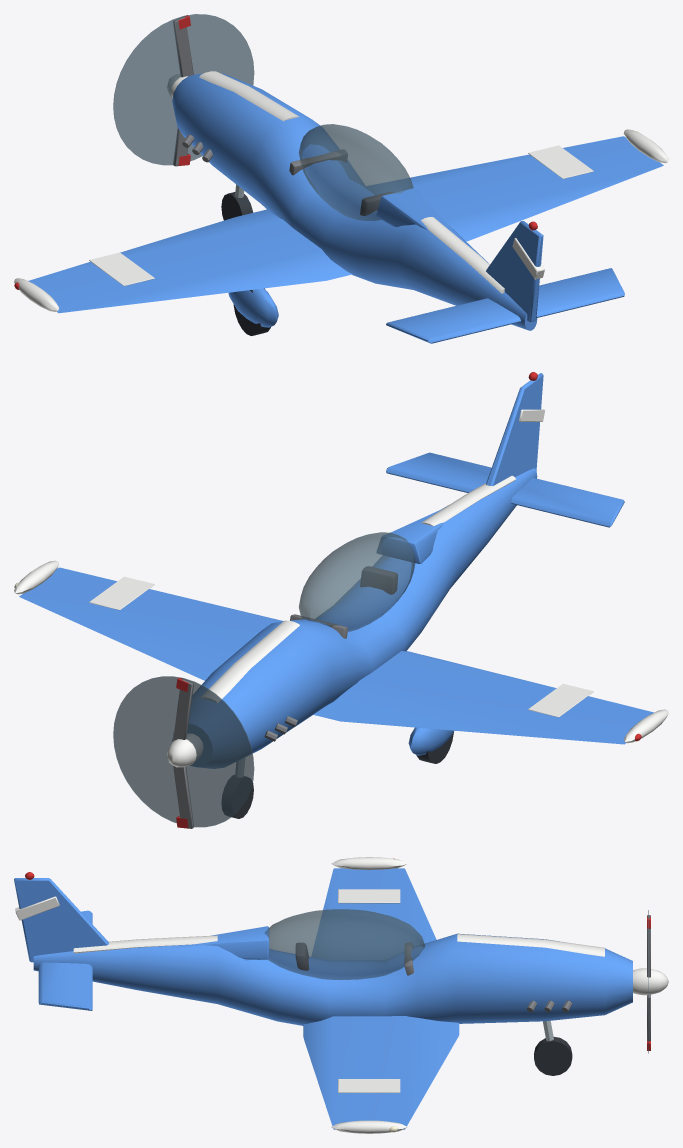
File: PlaneDart.fbx
3 renders of one model, top to bottom at view 1: azimuth 30°, elevation 25°; view 2: azimuth 150°, elevation 25°; view 3: azimuth 270°, elevation 25°, orthographic. The views are drawn at different scales.
Parts seen in each view (by area): view 1: Body__paint, Disc__glass, Body__glass, Body__white, Body__rubber, Prop__engine, Body__engine; view 2: Body__paint, Disc__glass, Body__glass, Body__white, Body__rubber, Prop__engine, Body__interior; view 3: Body__paint, Body__glass, Body__white, Body__rubber, Body__engine.
Boxes of the visible parts, x1=… form: Body__paint: x1=28, y1=73, x2=663, y2=343; Disc__glass: x1=113, y1=14, x2=254, y2=165; Body__glass: x1=298, y1=124, x2=413, y2=220; Body__white: x1=14, y1=71, x2=668, y2=311; Body__rubber: x1=221, y1=192, x2=270, y2=335; Prop__engine: x1=173, y1=17, x2=193, y2=166; Body__engine: x1=182, y1=134, x2=347, y2=175; Body__paint: x1=19, y1=373, x2=653, y2=768; Disc__glass: x1=113, y1=676, x2=254, y2=827; Body__glass: x1=299, y1=532, x2=415, y2=631; Body__white: x1=14, y1=409, x2=668, y2=767; Body__rubber: x1=221, y1=732, x2=453, y2=818; Prop__engine: x1=173, y1=679, x2=193, y2=828; Body__interior: x1=360, y1=566, x2=397, y2=594; Body__paint: x1=14, y1=868, x2=632, y2=1129; Body__glass: x1=264, y1=909, x2=425, y2=979; Body__white: x1=15, y1=857, x2=668, y2=1133; Body__rubber: x1=534, y1=1037, x2=572, y2=1075; Body__engine: x1=404, y1=942, x2=572, y2=1012.
Size of the model in its own units: 8 by 2.78 by 8.2.
